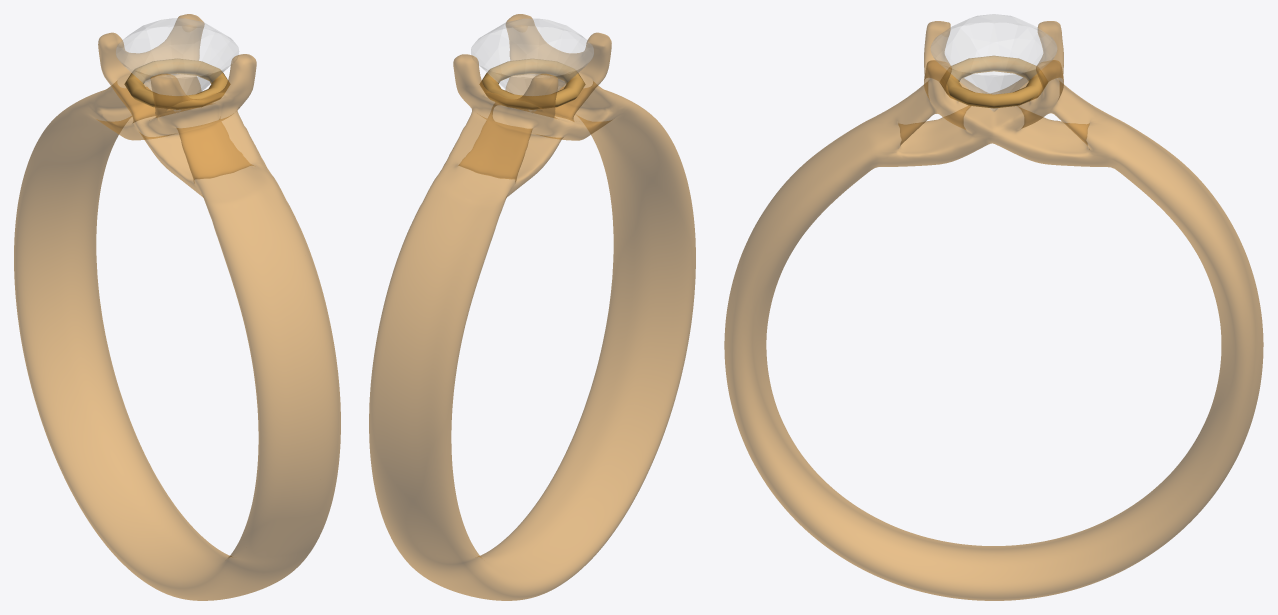
3 views of the same model, side by side, from view 1: azimuth 30°, elevation 25°; view 2: azimuth 150°, elevation 25°; view 3: azimuth 270°, elevation 25° (orthographic). The views are drawn at different scales.
Visible parts, largest first — view 1: VR004; view 2: VR004; view 3: VR004.
Part boxes in pixels (<box>): VR004: <box>14,14,340,600</box>; VR004: <box>369,14,695,600</box>; VR004: <box>724,14,1263,600</box>.
Size of the model in its own units: 0.5452 by 2.67 by 2.32.
